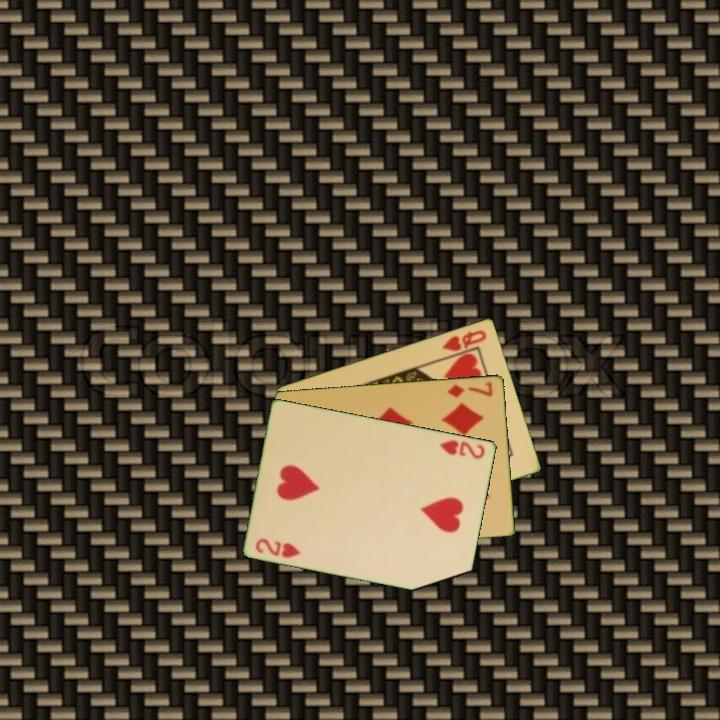2h: (252, 534, 303, 561), (436, 436, 488, 462)
7d: (444, 378, 496, 400)
Qh: (439, 326, 489, 354)
